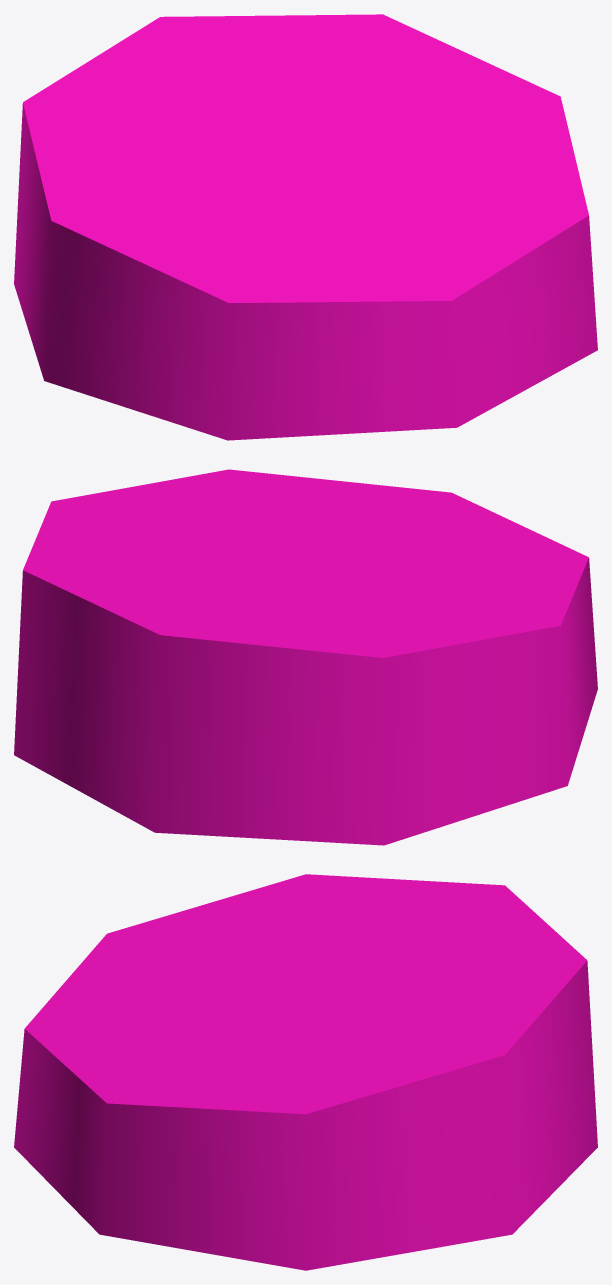
File: study_pillow_round_meshCollider.fbx
3 views of the same model, one above another, from view 1: azimuth 30°, elevation 25°; view 2: azimuth 150°, elevation 25°; view 3: azimuth 270°, elevation 25° (orthographic). The views are drawn at different scales.
Visible parts, largest first — view 1: study_pillow_round_meshCollider; view 2: study_pillow_round_meshCollider; view 3: study_pillow_round_meshCollider.
Part boxes in pixels (x1,y1,x2,y2): study_pillow_round_meshCollider: (14,14,597,440); study_pillow_round_meshCollider: (14,469,597,845); study_pillow_round_meshCollider: (14,874,597,1270).
Size of the model in its own units: 46.11 by 16.29 by 46.11.
